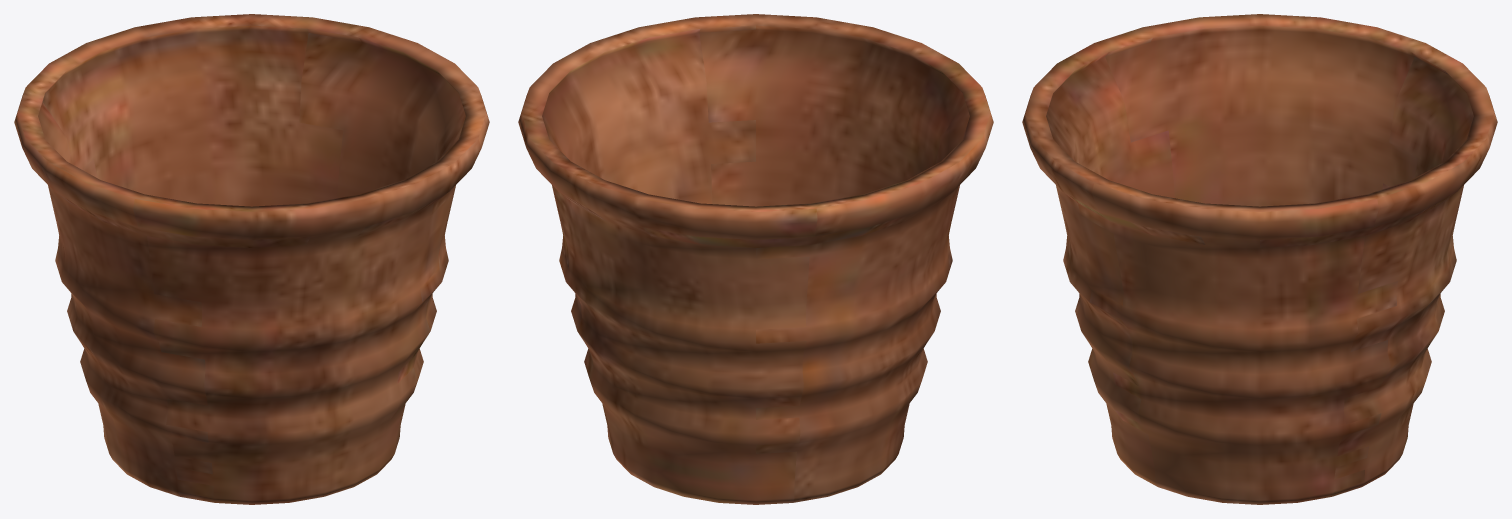
Rendered from pot_ribbed_lod1_web.glb.
The picture shows the model from 3 angles, left to right: view 1: azimuth 30°, elevation 25°; view 2: azimuth 150°, elevation 25°; view 3: azimuth 270°, elevation 25°; orthographic projection.
Visible parts, largest first — view 1: PotRibbed_Mesh; view 2: PotRibbed_Mesh; view 3: PotRibbed_Mesh.
Part boxes in pixels (x1=…): PotRibbed_Mesh: x1=14, y1=14, x2=489, y2=504; PotRibbed_Mesh: x1=518, y1=14, x2=993, y2=504; PotRibbed_Mesh: x1=1022, y1=14, x2=1497, y2=504.
Size of the model in its own units: 0.28 by 0.215 by 0.28.
1 material, 1 textured.
